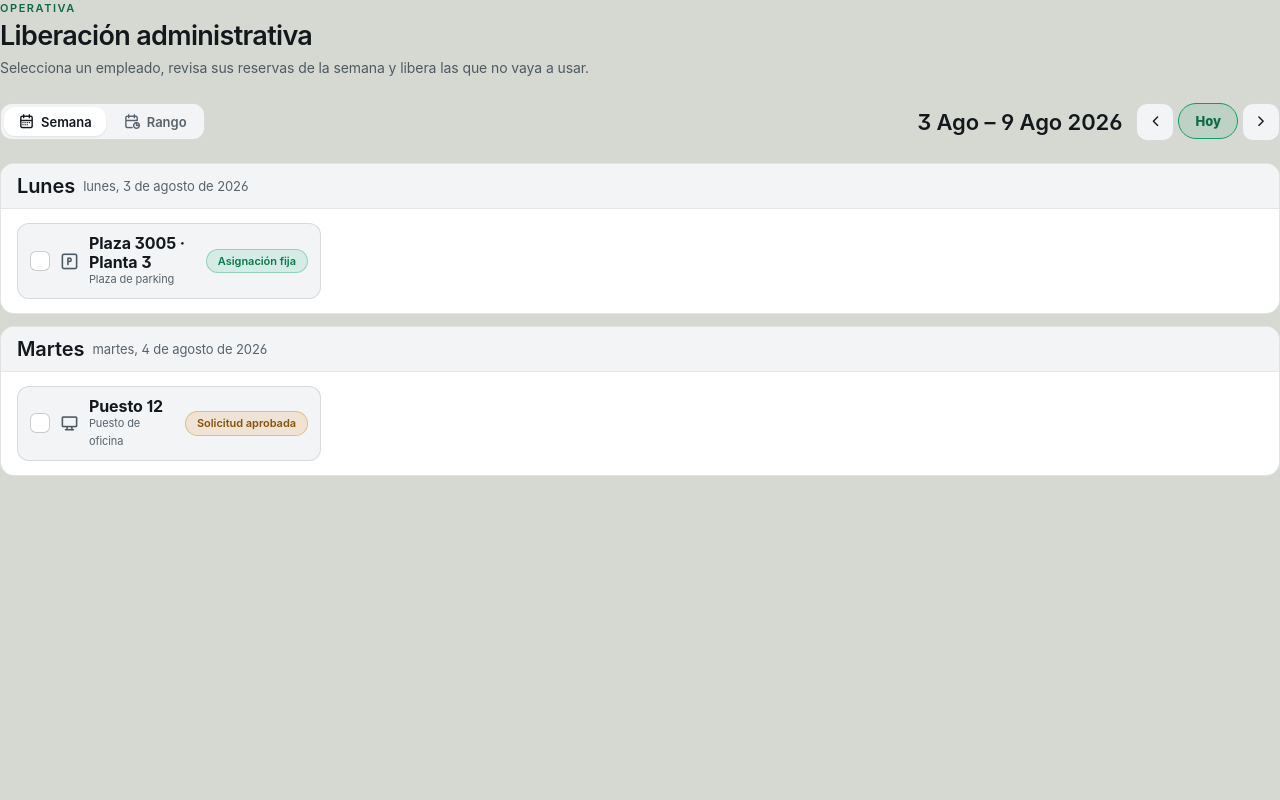
Test: AdministrativeReleasesPage (ADMIN/AGENCIA) — liberación por empleado y semana › should_report_partial_failure_when_one_reservation_fails
This screenshot has width=1280, height=800.
Expected: the text "Puesto 12" is shown, [89,397,175,416]
Step 1. Click the checkbox labelled "Plaza 3005 · Planta 3 Plaza de parking Asignación fija" → [137, 243], box [17,223,321,299]
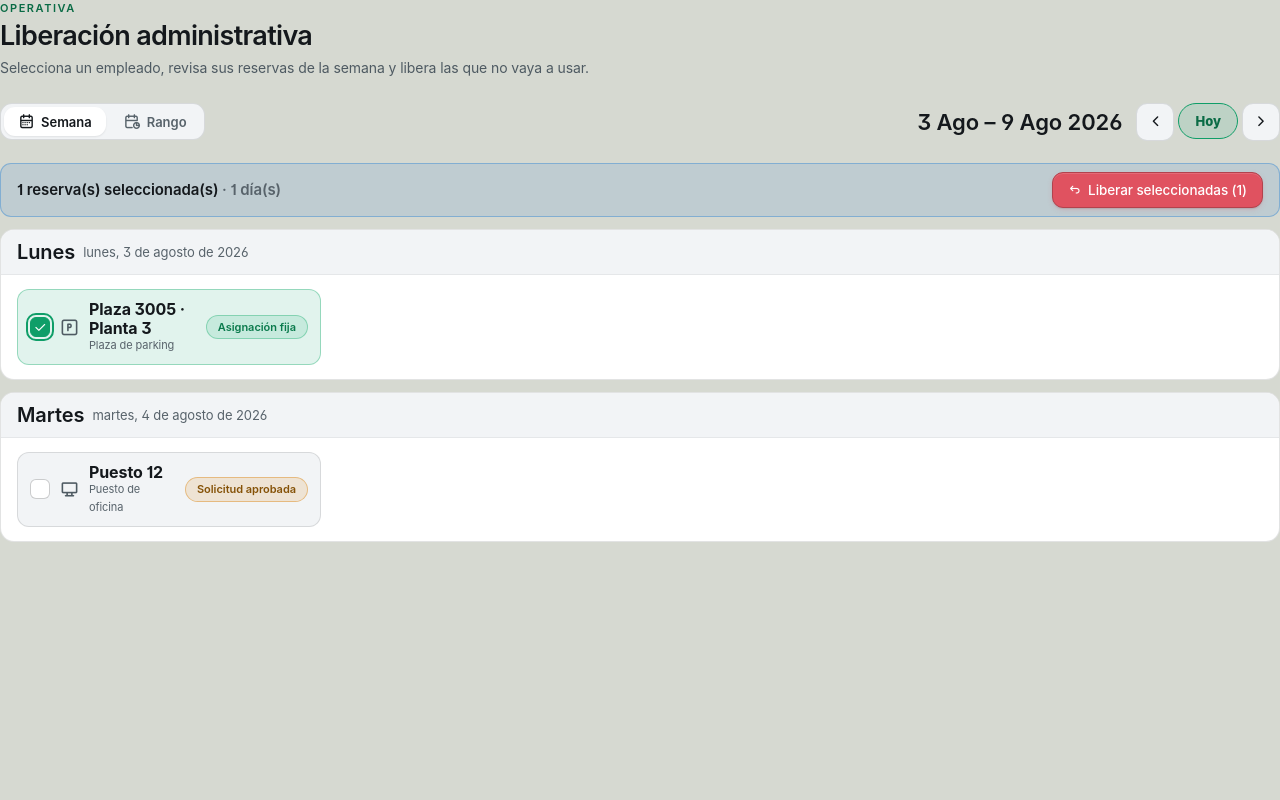
Step 2. Click the checkbox labelled "Puesto 12 Puesto de oficina Solicitud aprobada" → [126, 472], box [17,452,321,527]
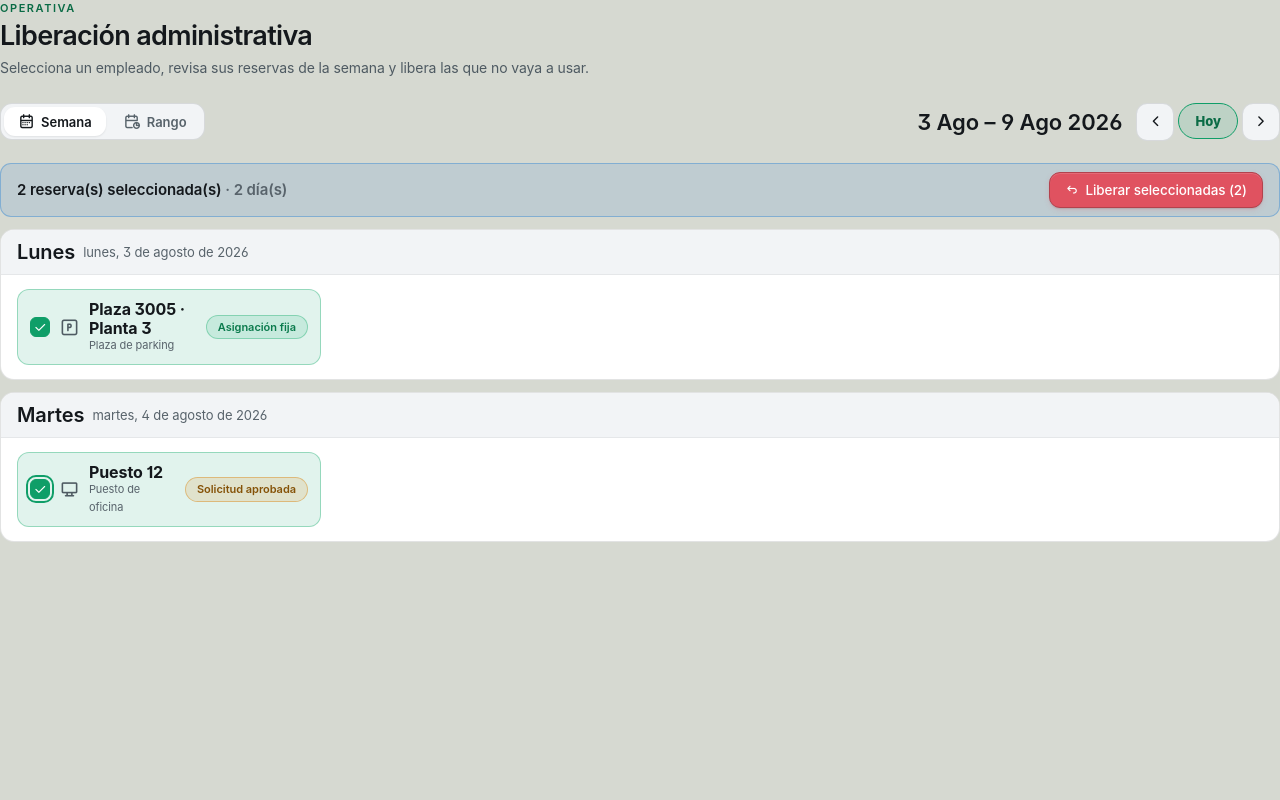
Step 3. Click the button "Liberar seleccionadas (2)" → [1156, 190], box [1049,172,1263,208]
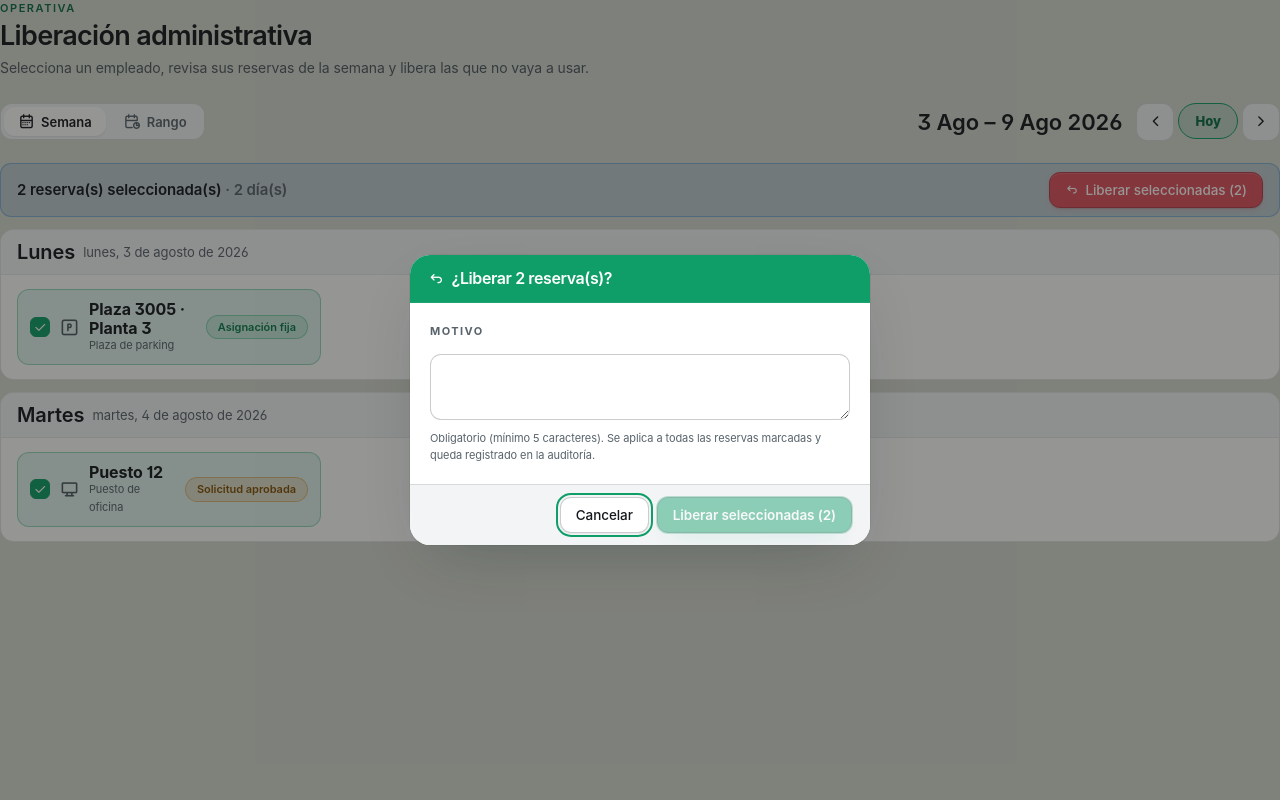
Step 4. Type "No acude esta semana" into the text box labelled "Motivo" → [640, 387], box [430,354,850,420]
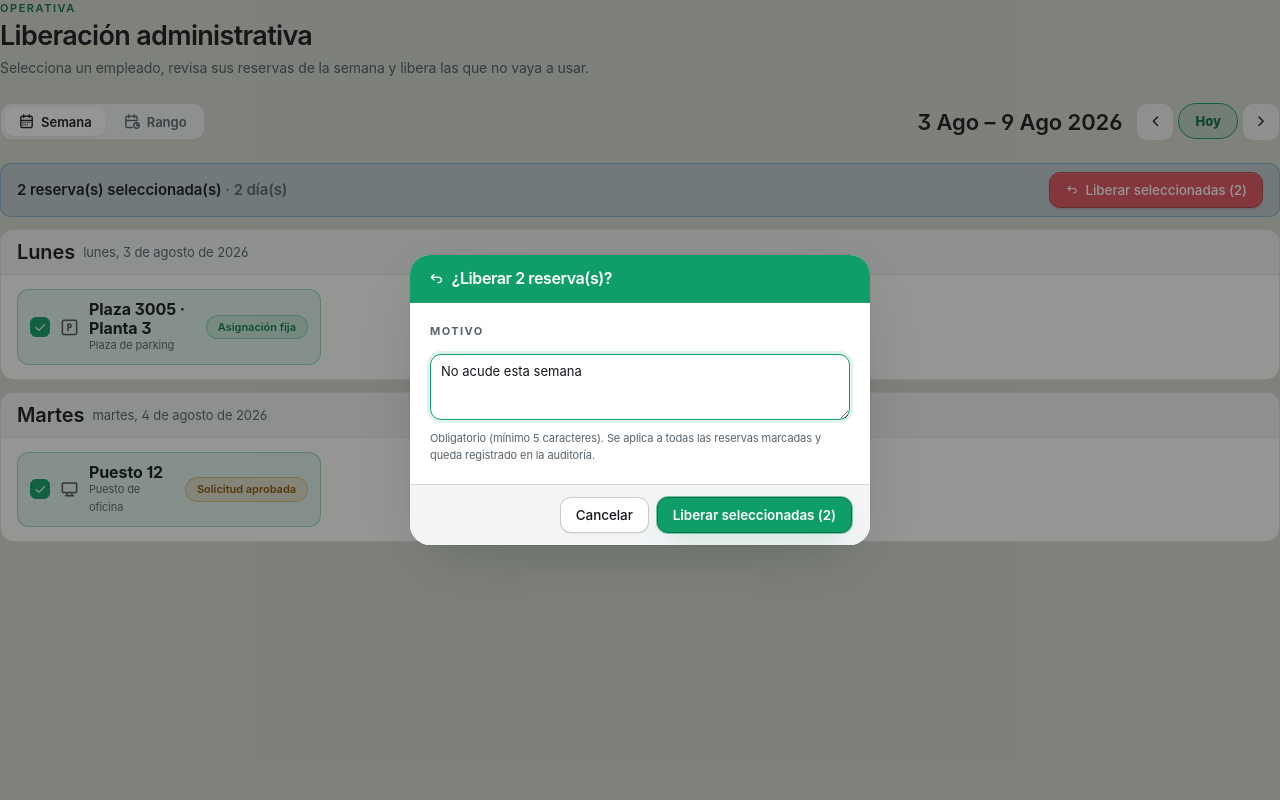
Step 5. Click the button "Liberar seleccionadas (2)" → [754, 515], box [657,497,852,533]
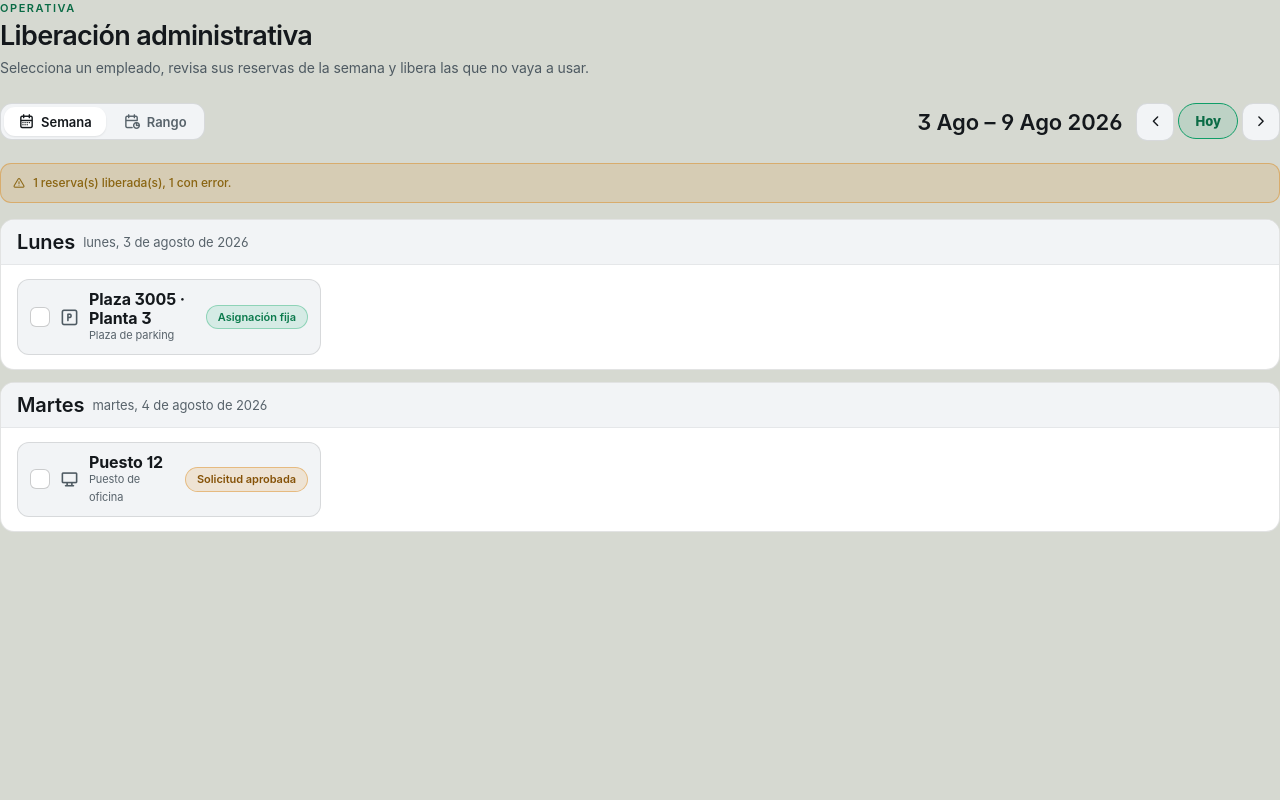
Now the text "1 reserva(s) liberada(s), 1 con error." is shown, box [33,174,231,192]
